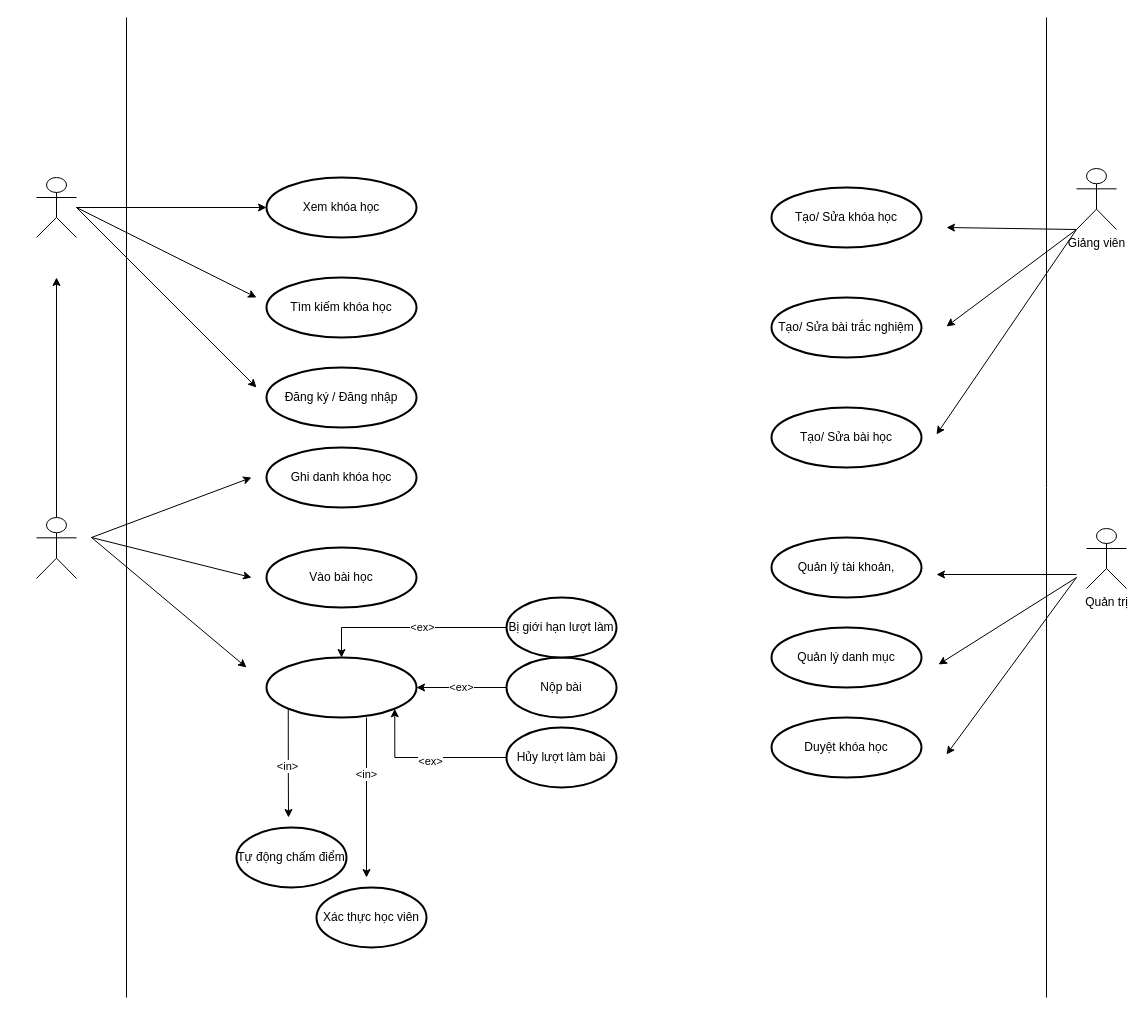
Image size: 1145x1016. Some labels were removed from this diagram. Here are the shapes that lost their labels. From the top down, the box of each, then its label:
(36, 176, 76, 238): Khách vãng lai
(36, 516, 76, 578): Học viên
(265, 656, 417, 718): Làm trắc nghiệm
